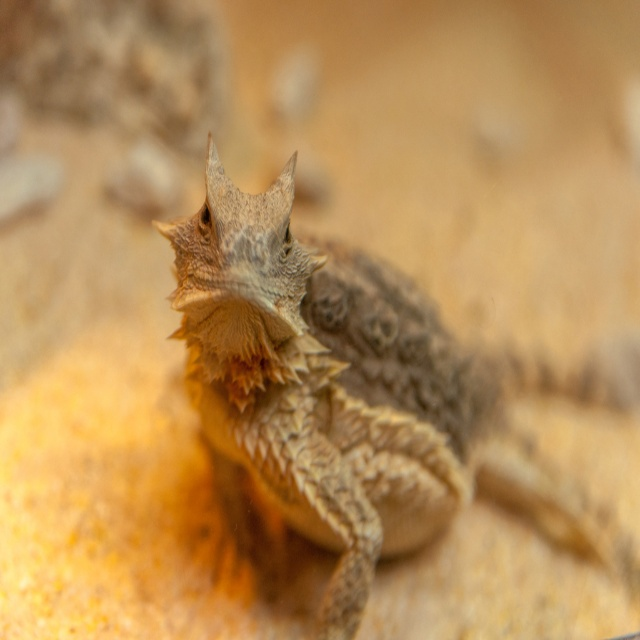Lizard: (109, 111, 617, 640)
